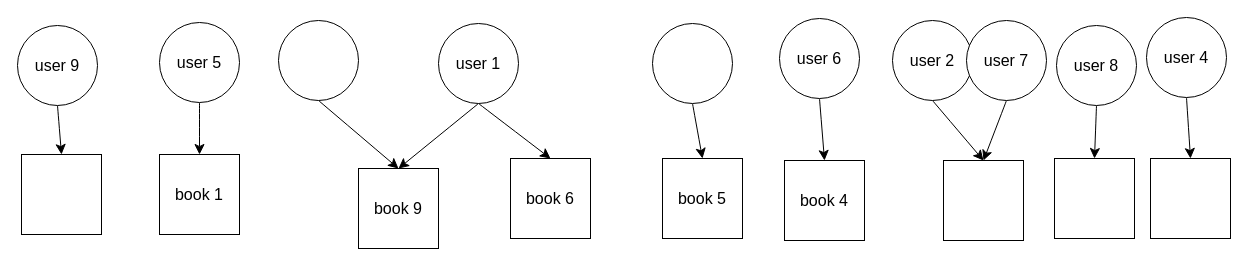
Some shapes in this 1248 by 266 pixel diagram are drawn without their labels. The shapes that lost their labels are listed below. From the top down, each one's centre as x and y in pixels, then its label:
At pixel 318 60: "user 10".
At pixel 692 63: "user 3".
At pixel 61 194: "book 8".
At pixel 983 200: "book 2".
At pixel 1094 198: "book 7".
At pixel 1190 198: "book 3".
